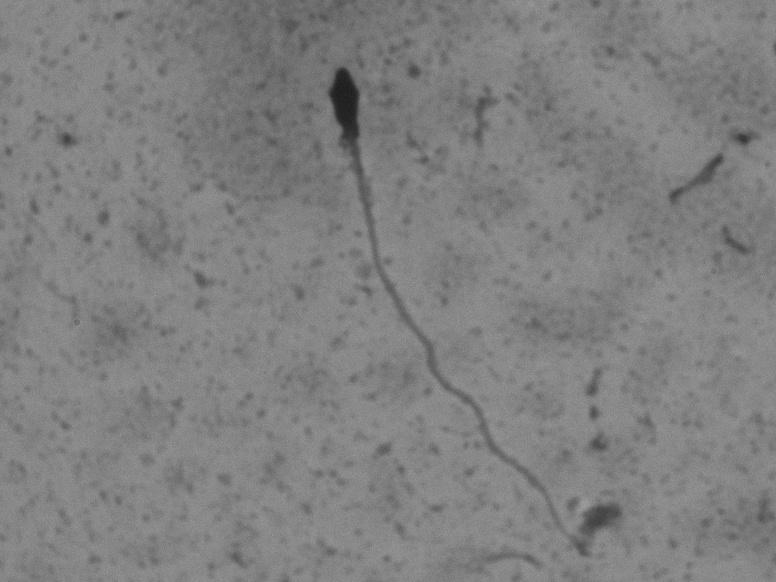Abnormal: (306, 43, 620, 562)
